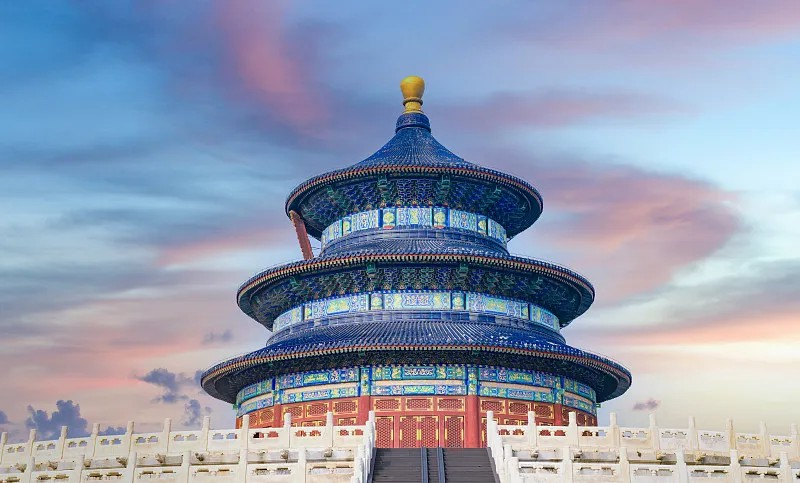Heaven: (198, 74, 633, 445)
